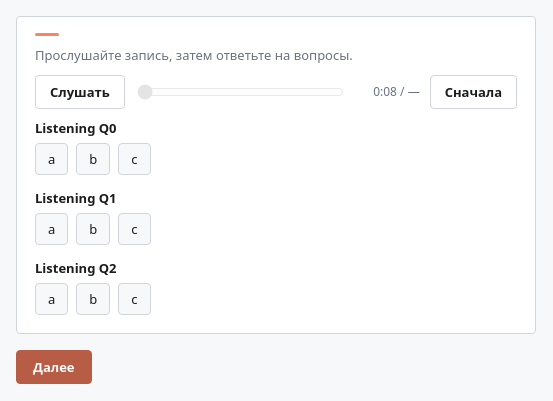
Test case: OnboardingPlacement › ended then Сначала keeps gate open — submit advances to speaking
The image size is (553, 401).
Click the button with test id "listening-replay" at (473, 92), box left=430, top=75, right=517, bottom=109
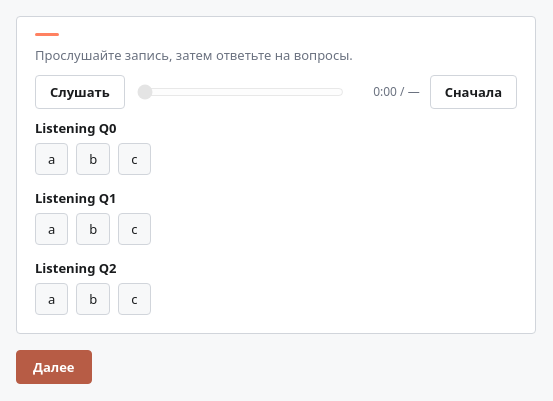
Click the button with test id "listening-submit" at (54, 367), box left=16, top=350, right=92, bottom=384
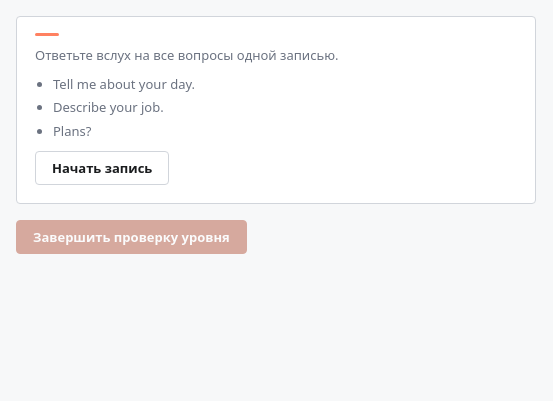
Check: the element with test id "placement-speaking" is shown, box left=16, top=16, right=536, bottom=204
